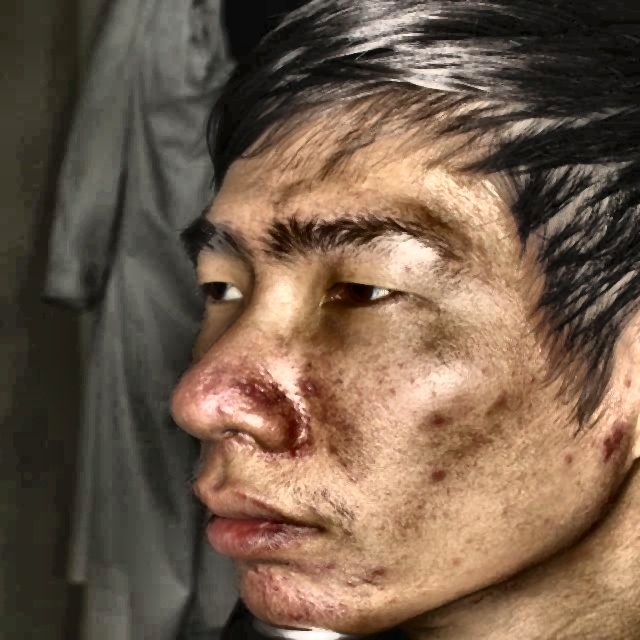pustule: (484, 386, 516, 416), (424, 405, 453, 431), (599, 427, 623, 458), (426, 464, 454, 489), (242, 562, 273, 584), (359, 563, 382, 583)
